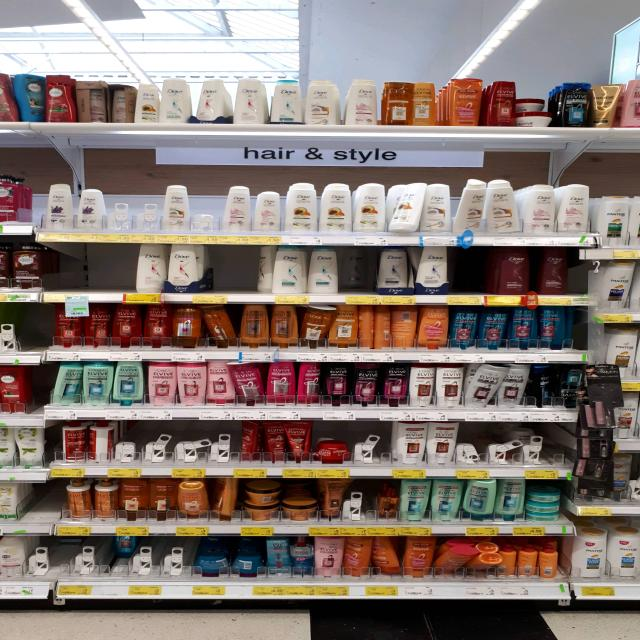empty: (107, 423, 242, 468), (45, 248, 138, 297), (104, 181, 165, 238), (207, 242, 264, 301), (128, 534, 194, 584), (34, 537, 106, 578), (458, 422, 522, 464), (452, 251, 498, 306), (3, 304, 47, 360), (17, 478, 65, 529), (184, 176, 220, 240), (5, 170, 42, 232), (347, 423, 397, 466), (342, 481, 377, 525)
